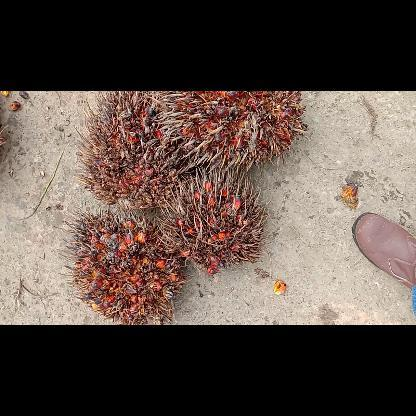Terlalu masak: (56, 202, 192, 324), (72, 90, 204, 212), (152, 90, 310, 178), (154, 166, 274, 276)
